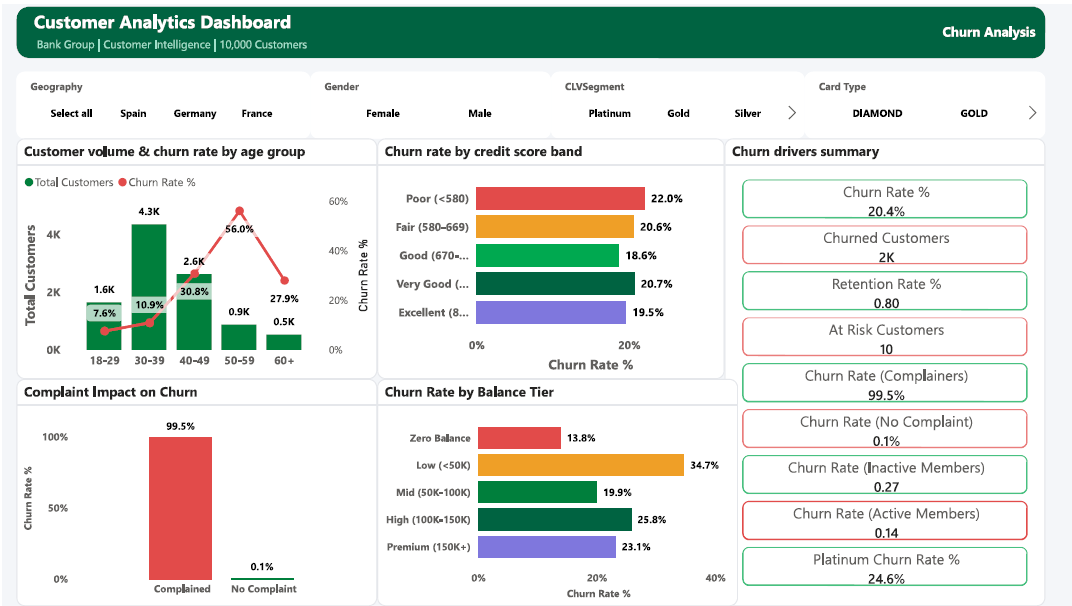

The dashboard page shown, as its layout file describes it:
{"tool":"powerbi","page":{"name":"Churn Analysis","canvas":[1280,720],"ordinal":2},"visuals":[{"type":"group","id":"g1","title":"Group 6","box":[16,0,1232,64],"z":0},{"type":"shape","box":[16,1.9,1232,62.1],"z":0,"group":"g1"},{"type":"slicer","fields":{"Values":["CustomerBase.Geography"]},"box":[16,80,352,80],"z":1},{"type":"slicer","fields":{"Values":["CustomerBase.Gender"]},"box":[368,80,288,80],"z":2},{"type":"slicer","fields":{"Values":["CustomerBase.Card Type"]},"box":[960,80,288,80],"z":3},{"type":"slicer","fields":{"Values":["CustomerBase.CLVSegment"]},"box":[656,80,304,80],"z":4},{"type":"lineClusteredColumnComboChart","title":"Customer volume & churn rate by age group","fields":{"Category":["CustomerBase.AgeGroup"],"Y":["_Measures.Total Customers"],"Y2":["_Measures.Churn Rate %"]},"box":[16,160,432,288],"z":5},{"type":"clusteredBarChart","title":"Churn rate by credit score band","fields":{"Category":["CustomerBase.CreditScoreBand"],"Y":["_Measures.Churn Rate %"]},"box":[448,160,416,288],"z":6},{"type":"cardVisual","title":"Churn drivers summary","fields":{"Data":["_Measures.Churn Rate %","_Measures.Churned Customers","_Measures.Retention Rate %","_Measures.At Risk Customers","_Measures.Churn Rate (Complainers)","_Measures.Churn Rate (No Complaint)","_Measures.Churn Rate (Inactive Members)","AgeGroupSort.Churn Rate (Active Members)","_Measures.Platinum Churn Rate %"]},"box":[864,160,384,560],"z":7},{"type":"clusteredColumnChart","title":"Complaint Impact on Churn","fields":{"Y":["_Measures.Churn Rate %"],"Category":["CustomerBase.Complaint Status"]},"box":[16,448,432,272],"z":8},{"type":"clusteredBarChart","title":"Churn Rate by Balance Tier","fields":{"Y":["_Measures.Churn Rate %"],"Category":["CustomerBase.BalanceTier"]},"box":[448,448,432,272],"z":9},{"type":"textbox","box":[32.2,0,551.2,46.5],"z":1000,"group":"g1"},{"type":"textbox","box":[32.2,33,421.5,31],"z":4000,"group":"g1"},{"type":"textbox","box":[1120,16,128,32],"z":5000,"group":"g1"}]}

Visuals, with their boxes in screenshot pixels (x1, y1, x2, y2), scaled from the page's 1280x720 canvas onto the 1072x606 screenshot:
"Group 6" group: <box>13,0,1045,54</box>
shape: <box>13,2,1045,54</box>
slicer - CustomerBase.Geography: <box>13,67,308,135</box>
slicer - CustomerBase.Gender: <box>308,67,549,135</box>
slicer - CustomerBase.Card Type: <box>804,67,1045,135</box>
slicer - CustomerBase.CLVSegment: <box>549,67,804,135</box>
"Customer volume & churn rate by age group" lineClusteredColumnComboChart: <box>13,135,375,377</box>
"Churn rate by credit score band" clusteredBarChart: <box>375,135,724,377</box>
"Churn drivers summary" cardVisual: <box>724,135,1045,605</box>
"Complaint Impact on Churn" clusteredColumnChart: <box>13,377,375,605</box>
"Churn Rate by Balance Tier" clusteredBarChart: <box>375,377,737,605</box>
textbox: <box>27,0,489,39</box>
textbox: <box>27,28,380,54</box>
textbox: <box>938,13,1045,40</box>
